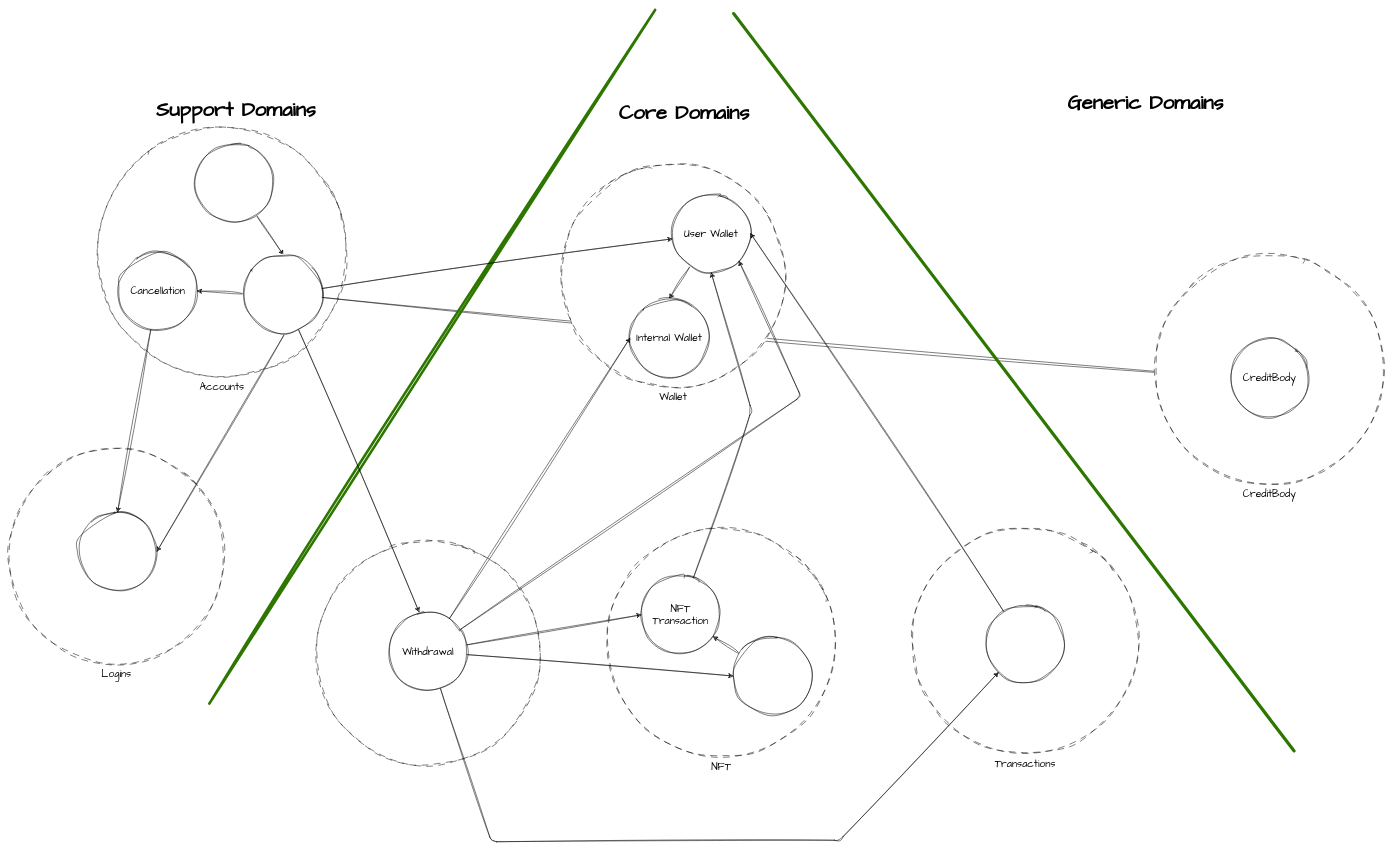
Image size: 1393x855. Some labels were removed from this diagram. The box of each missing label's shape, as (x1, y1, x2, y2) in pixels:
Creation: (244, 254, 323, 333)
Login: (78, 512, 157, 591)
NTF Creation: (733, 636, 812, 715)
Requests: (195, 143, 274, 222)
Transaction: (986, 604, 1065, 683)
Withdrawals: (315, 540, 540, 765)
